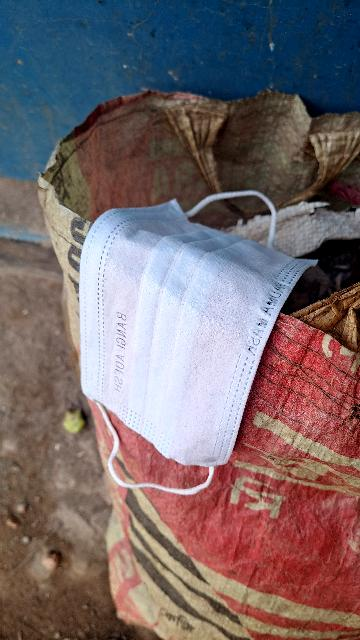mask: (18, 187, 304, 477)
